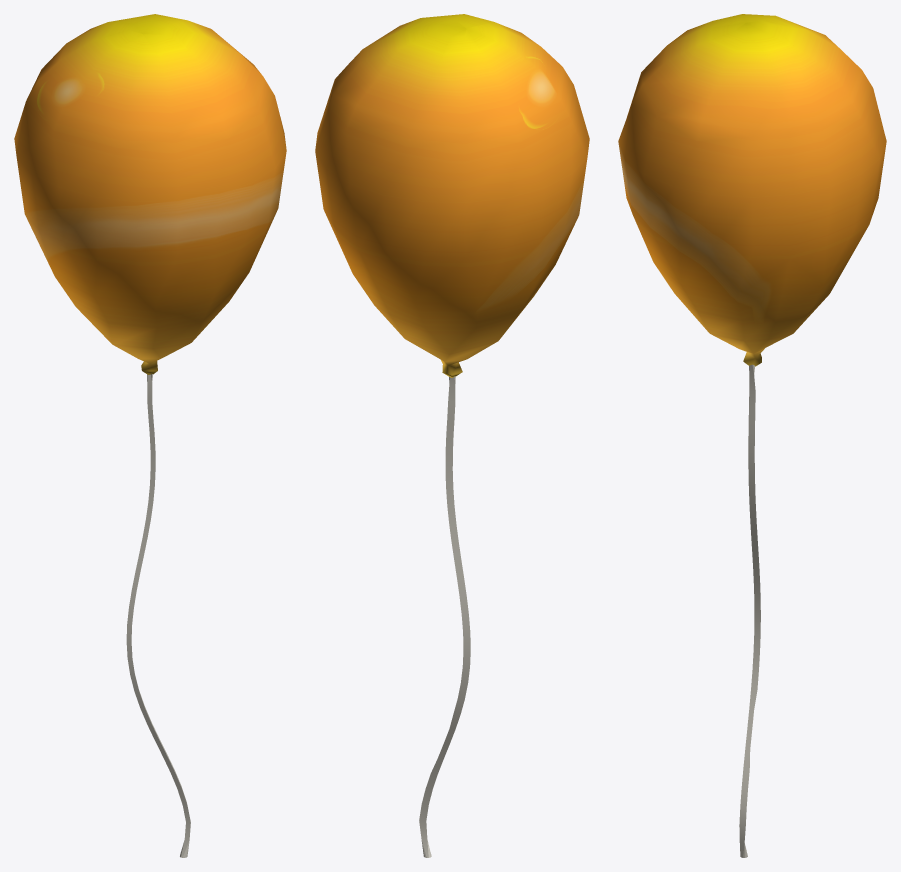
The model's file is Ballon_Sm.fbx.
3 views of the same model, side by side, from view 1: azimuth 30°, elevation 25°; view 2: azimuth 150°, elevation 25°; view 3: azimuth 270°, elevation 25° (orthographic). The views are drawn at different scales.
Parts seen in each view (by area): view 1: polySurface3; view 2: polySurface3; view 3: polySurface3.
Part boxes in pixels (left/top/right/bottom): polySurface3: left=14, top=14, right=286, bottom=857; polySurface3: left=315, top=14, right=589, bottom=857; polySurface3: left=618, top=14, right=886, bottom=857.
Bounding box in the file's own units: 53.89 × 180 × 53.89.
2 materials, 2 textured.
